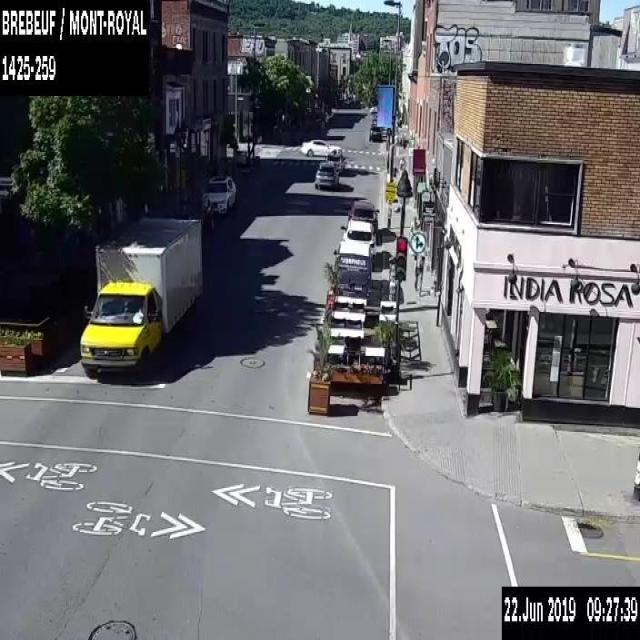pedestrian: (414, 245, 425, 295), (409, 214, 418, 248)
vehicle: (77, 211, 205, 377), (333, 240, 380, 295), (201, 170, 236, 214), (342, 216, 378, 254), (348, 200, 380, 232), (298, 137, 342, 157), (315, 162, 340, 189), (326, 148, 344, 174), (368, 126, 382, 141)
